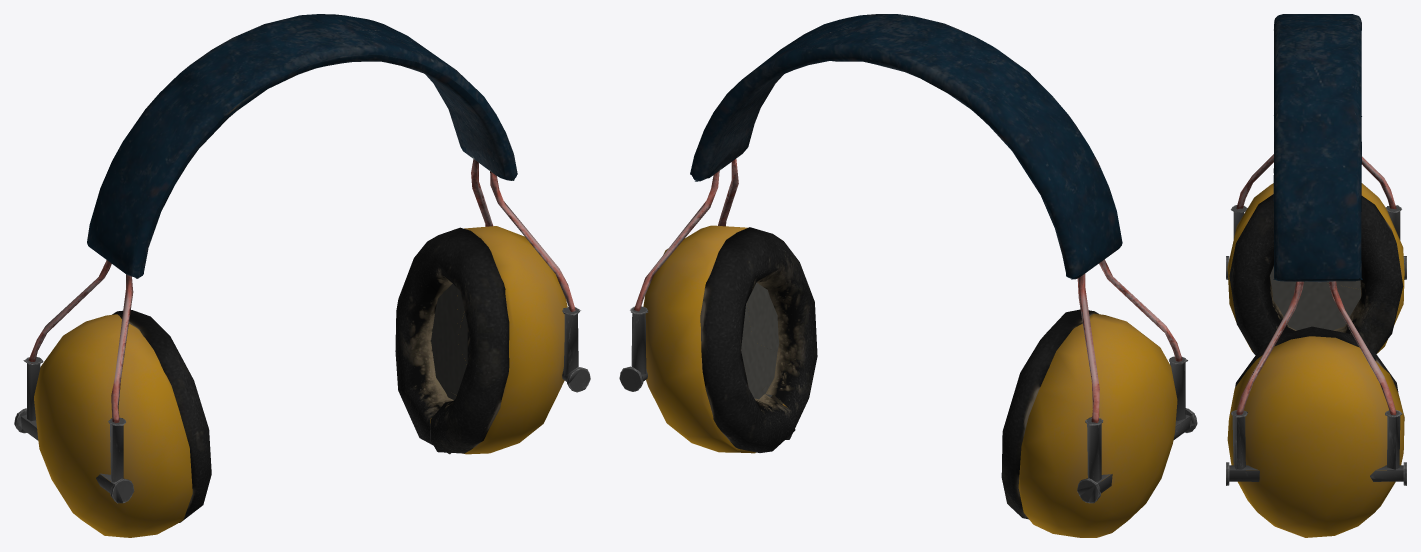
The model's file is Headphones.fbx.
3 renders of one model, left to right at view 1: azimuth 30°, elevation 25°; view 2: azimuth 150°, elevation 25°; view 3: azimuth 270°, elevation 25°, orthographic. The views are drawn at different scales.
Parts seen in each view (by area): view 1: defaultMaterial; view 2: defaultMaterial; view 3: defaultMaterial.
Boxes of the visible parts, x1,y1,x2,y2 form: defaultMaterial: (14,14,590,537); defaultMaterial: (619,14,1197,537); defaultMaterial: (1226,14,1406,537).
Bounding box in the file's own units: 56.6 × 48.79 × 19.09.
1 material, 1 textured.
